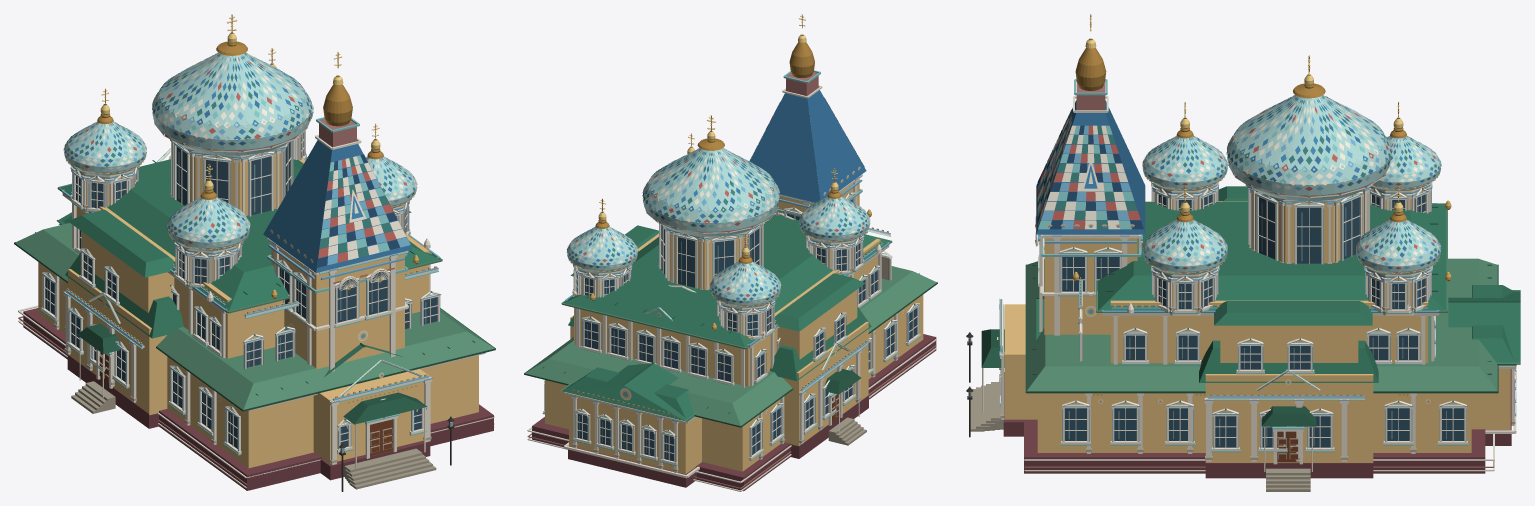
File: voznesenskiy_sobor.glb
3 views of the same model, side by side, from view 1: azimuth 30°, elevation 25°; view 2: azimuth 150°, elevation 25°; view 3: azimuth 270°, elevation 25° (orthographic). The views are drawn at different scales.
Parts seen in each view (by area): view 1: Zenkov_ochre, Zenkov_white, Zenkov_mint_light, Zenkov_roof_light, Zenkov_green, Zenkov_glass, Zenkov_maroon, Zenkov_sky, Zenkov_blue, Zenkov_mint, Zenkov_green_dark, Zenkov_stone (+10 smaller); view 2: Zenkov_white, Zenkov_ochre, Zenkov_green, Zenkov_mint_light, Zenkov_blue, Zenkov_roof_light, Zenkov_glass, Zenkov_maroon, Zenkov_sky, Zenkov_mint, Zenkov_gold_dark, Zenkov_green_dark (+9 smaller); view 3: Zenkov_ochre, Zenkov_white, Zenkov_green, Zenkov_mint_light, Zenkov_roof_light, Zenkov_glass, Zenkov_maroon, Zenkov_sky, Zenkov_mint, Zenkov_blue, Zenkov_green_dark, Zenkov_teal (+10 smaller).
Boxes of the visible parts, x1,y1,x2,y2 form: Zenkov_ochre: (38, 145, 478, 468); Zenkov_white: (18, 53, 494, 488); Zenkov_mint_light: (45, 53, 435, 423); Zenkov_roof_light: (15, 183, 494, 409); Zenkov_green: (58, 159, 439, 376); Zenkov_glass: (45, 133, 437, 448); Zenkov_maroon: (23, 308, 493, 490); Zenkov_sky: (42, 55, 441, 451); Zenkov_blue: (65, 53, 412, 272); Zenkov_mint: (40, 55, 438, 455); Zenkov_green_dark: (14, 160, 495, 424); Zenkov_stone: (71, 381, 436, 489); Zenkov_white: (527, 85, 936, 491); Zenkov_ochre: (545, 179, 923, 474); Zenkov_green: (562, 215, 889, 421); Zenkov_mint_light: (567, 148, 916, 434); Zenkov_blue: (569, 90, 867, 302); Zenkov_roof_light: (525, 234, 936, 425); Zenkov_glass: (576, 199, 916, 461); Zenkov_maroon: (532, 334, 936, 491); Zenkov_sky: (544, 136, 919, 462); Zenkov_mint: (542, 70, 921, 465); Zenkov_gold_dark: (595, 15, 841, 263); Zenkov_green_dark: (524, 231, 937, 427); Zenkov_ochre: (1004, 186, 1510, 462); Zenkov_white: (982, 95, 1516, 471); Zenkov_green: (1036, 186, 1520, 382); Zenkov_mint_light: (1066, 95, 1459, 413); Zenkov_roof_light: (1026, 203, 1520, 391); Zenkov_glass: (1062, 194, 1464, 447); Zenkov_maroon: (1003, 369, 1511, 478); Zenkov_sky: (999, 95, 1515, 448); Zenkov_mint: (999, 79, 1516, 452); Zenkov_blue: (1036, 96, 1439, 261); Zenkov_green_dark: (981, 206, 1520, 426); Zenkov_teal: (1037, 95, 1436, 264).
Size of the model in its own units: 38.4 by 44.18 by 55.85.
